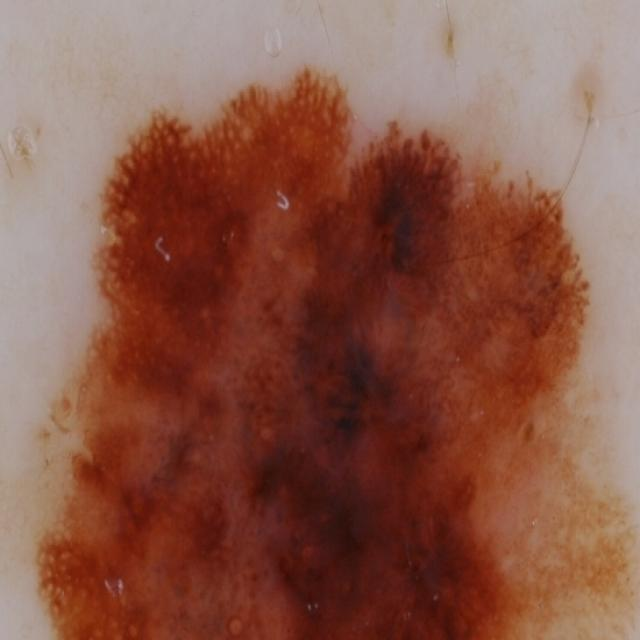Melanoma: (53, 75, 572, 640)
